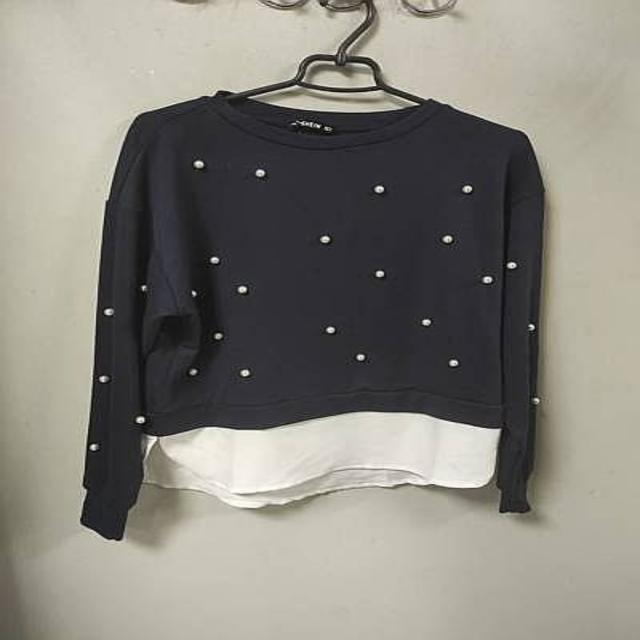SHIRT: (64, 78, 592, 547)
